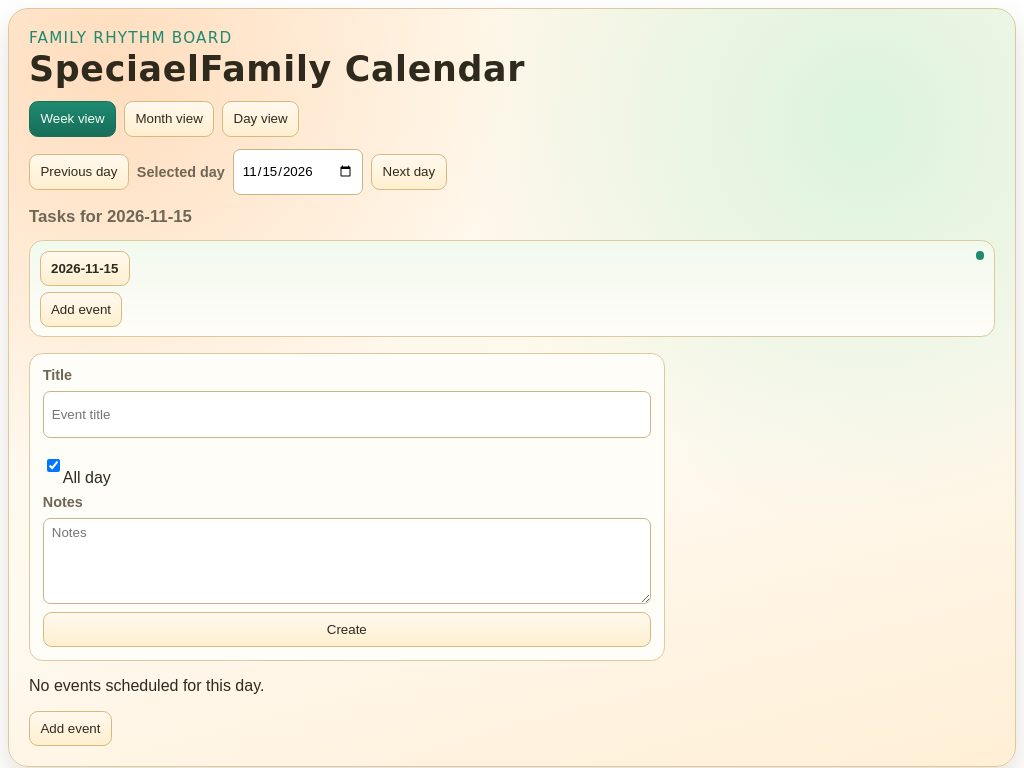
Test: calendar view switching › switches week -> month and keeps selected date in rendered range
Check: the element named "week-view" is shown, box x1=29 y1=240 x2=995 y2=337
Click the button with aria-label "month-view-button".
click(169, 119)  # box x1=124 y1=101 x2=214 y2=137
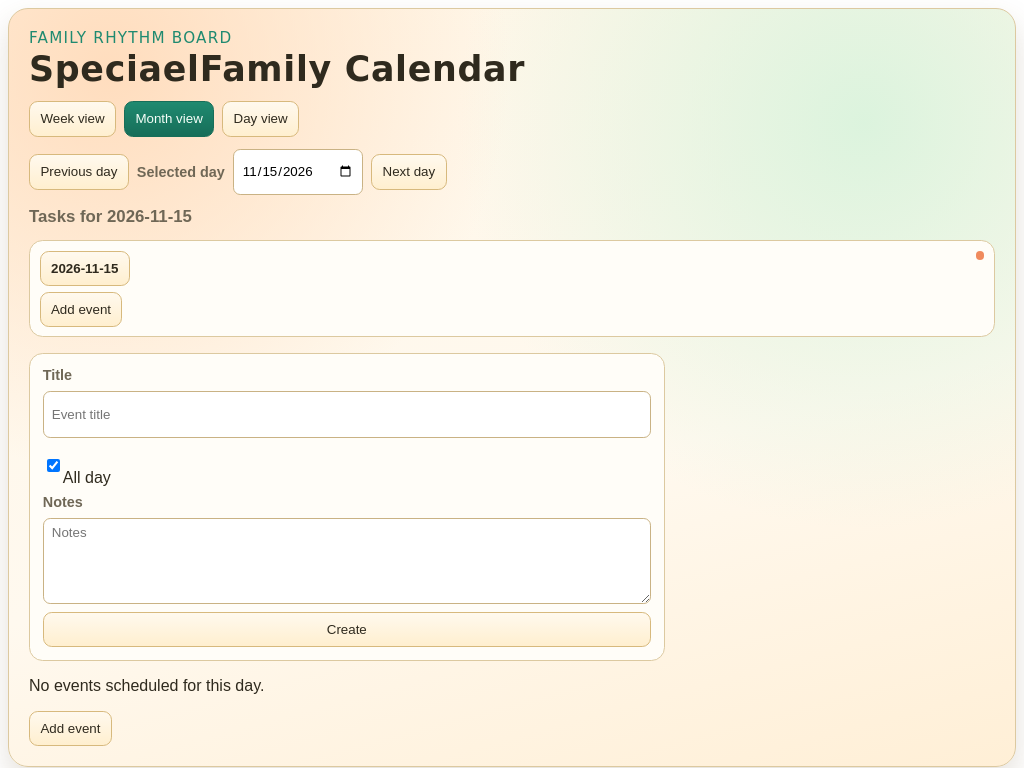
Check: the date field named "selected-day" is shown, box x1=233 y1=149 x2=363 y2=195
Check: the element named "month-view" is shown, box x1=29 y1=240 x2=995 y2=337
